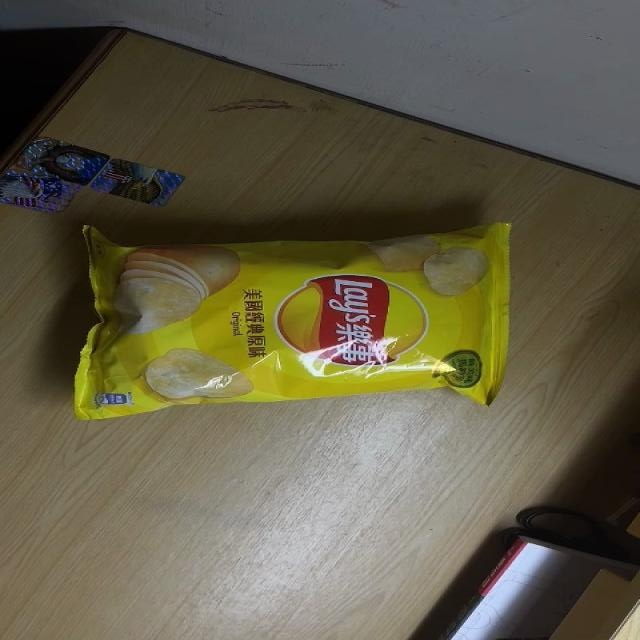Lay-s-original: (68, 219, 520, 422)
